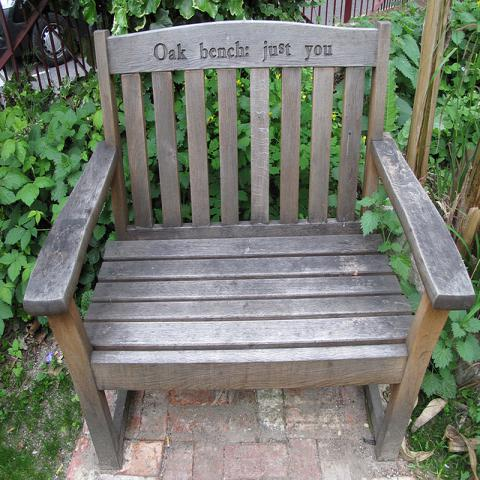car: (0, 0, 79, 65)
